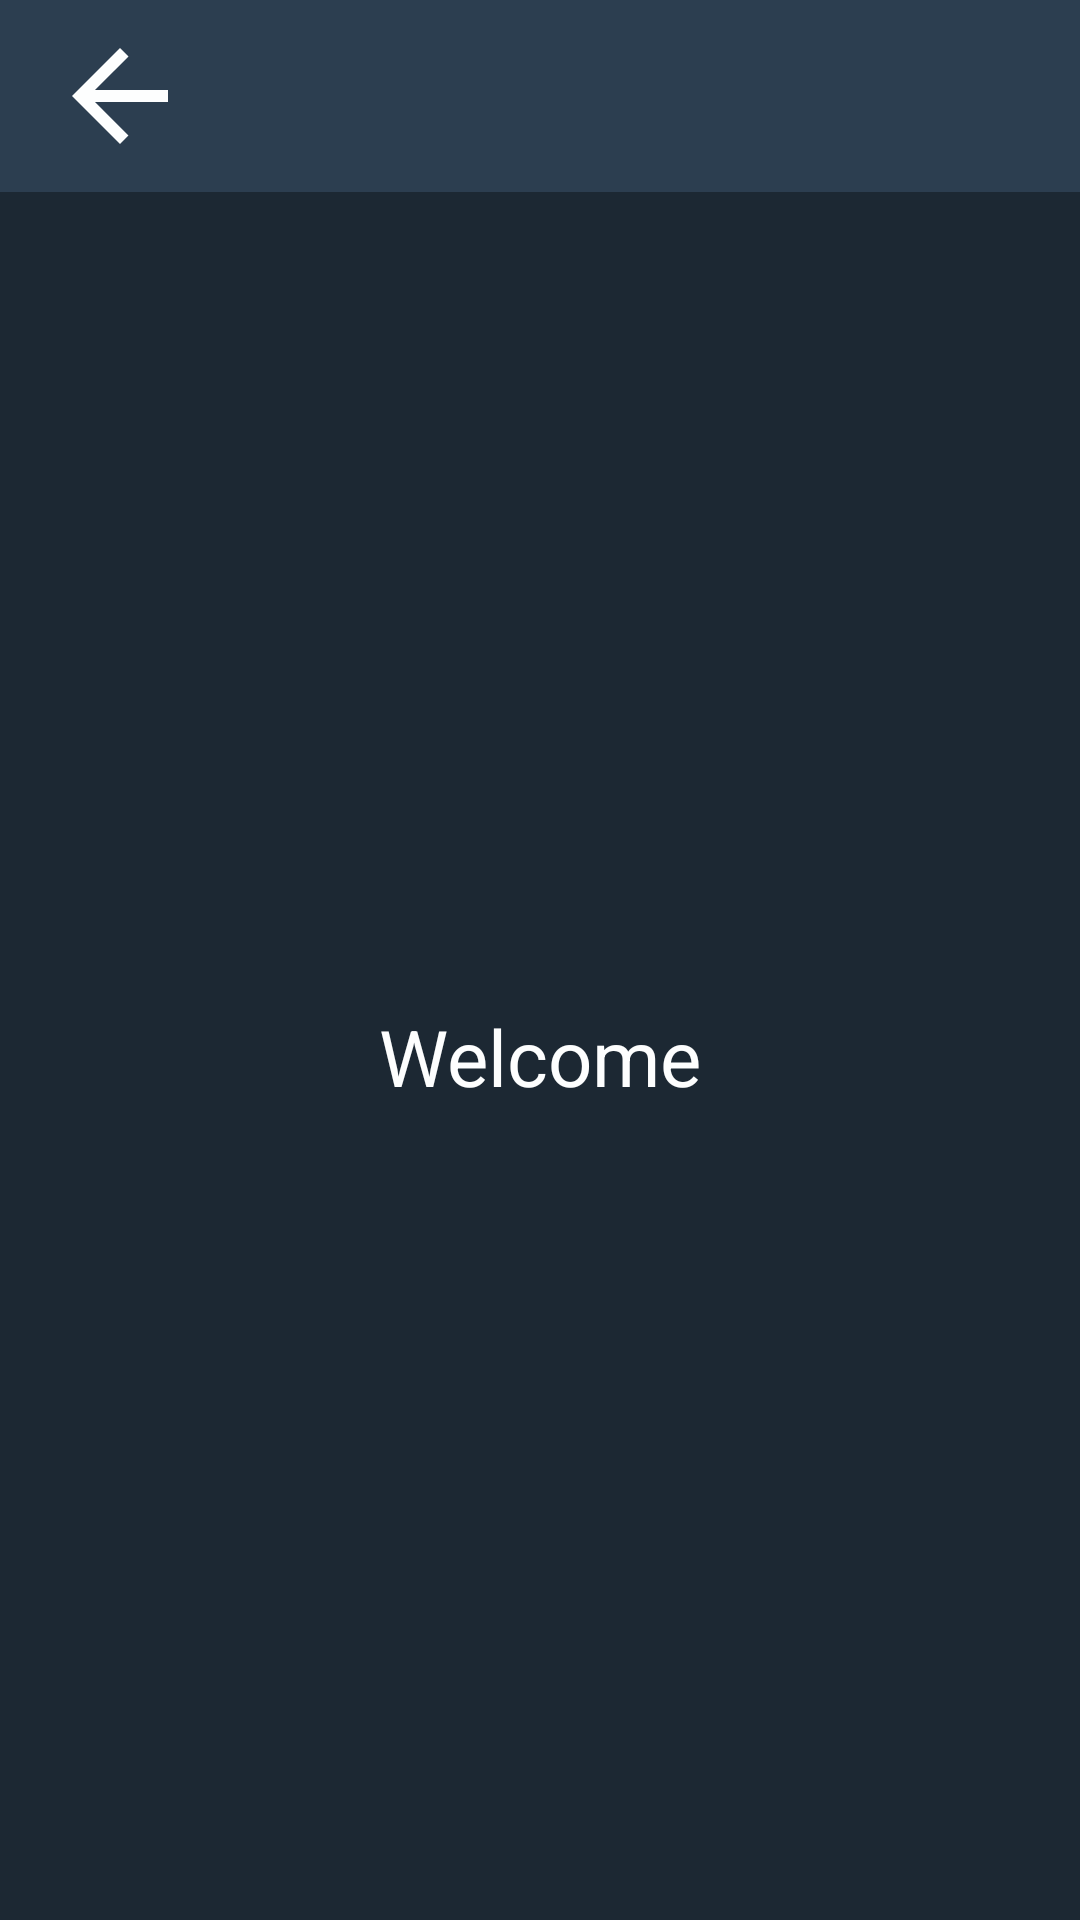

Locate icon controls on the screen. Image size 1080px x 1920px, boxes as rect(x1, y1, x2, y2).
Zurück: rect(72, 48, 168, 144)
